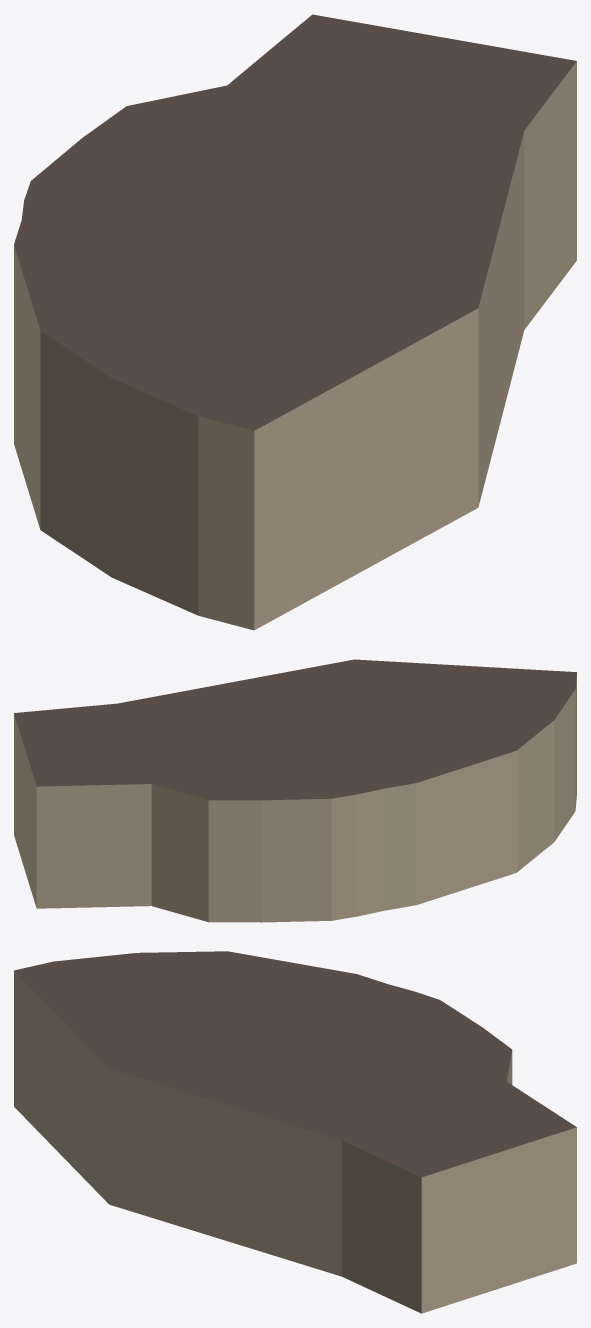
3 renders of one model, top to bottom at view 1: azimuth 30°, elevation 25°; view 2: azimuth 150°, elevation 25°; view 3: azimuth 270°, elevation 25°, orthographic. The views are drawn at different scales.
Visible parts, largest first — view 1: HP-w437014066; view 2: HP-w437014066; view 3: HP-w437014066.
Part boxes in pixels (box(x1,y1,x2,y2)): HP-w437014066: box(14, 14, 576, 630); HP-w437014066: box(14, 659, 576, 922); HP-w437014066: box(14, 951, 576, 1313).
Bounding box in the file's own units: 32.04 × 9 × 33.71.
